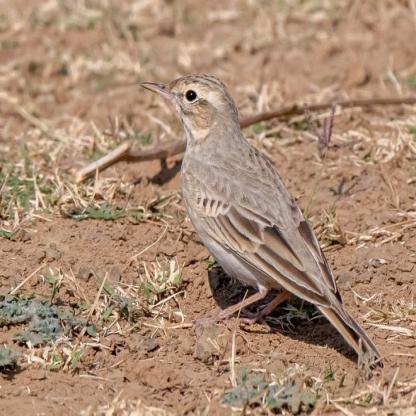Burung: (140, 76, 384, 365)
